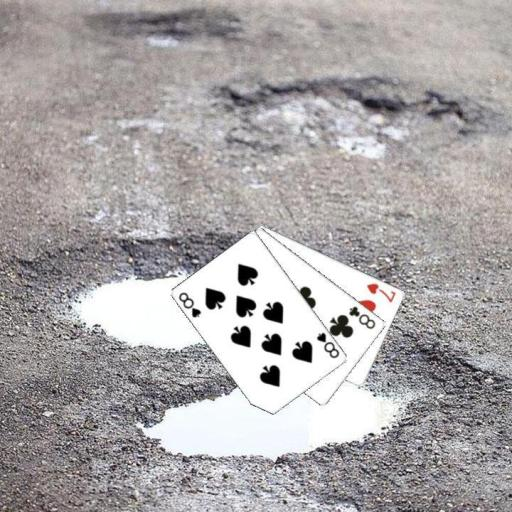card-corner: (345, 303, 377, 331), (314, 329, 341, 360), (364, 280, 398, 304), (176, 289, 202, 319)
